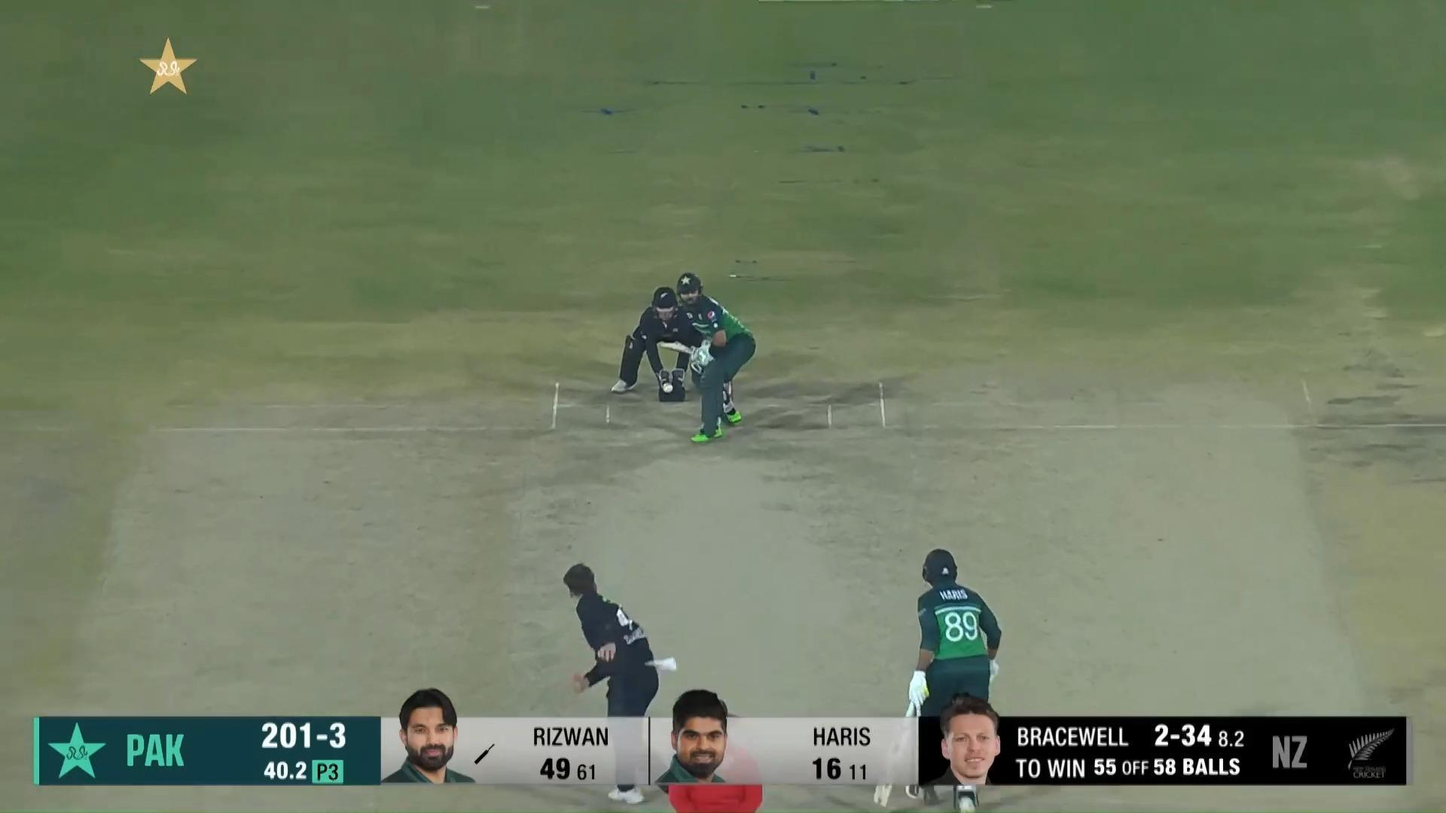BM 1: (656, 272, 756, 444)
BO: (563, 561, 677, 804)
